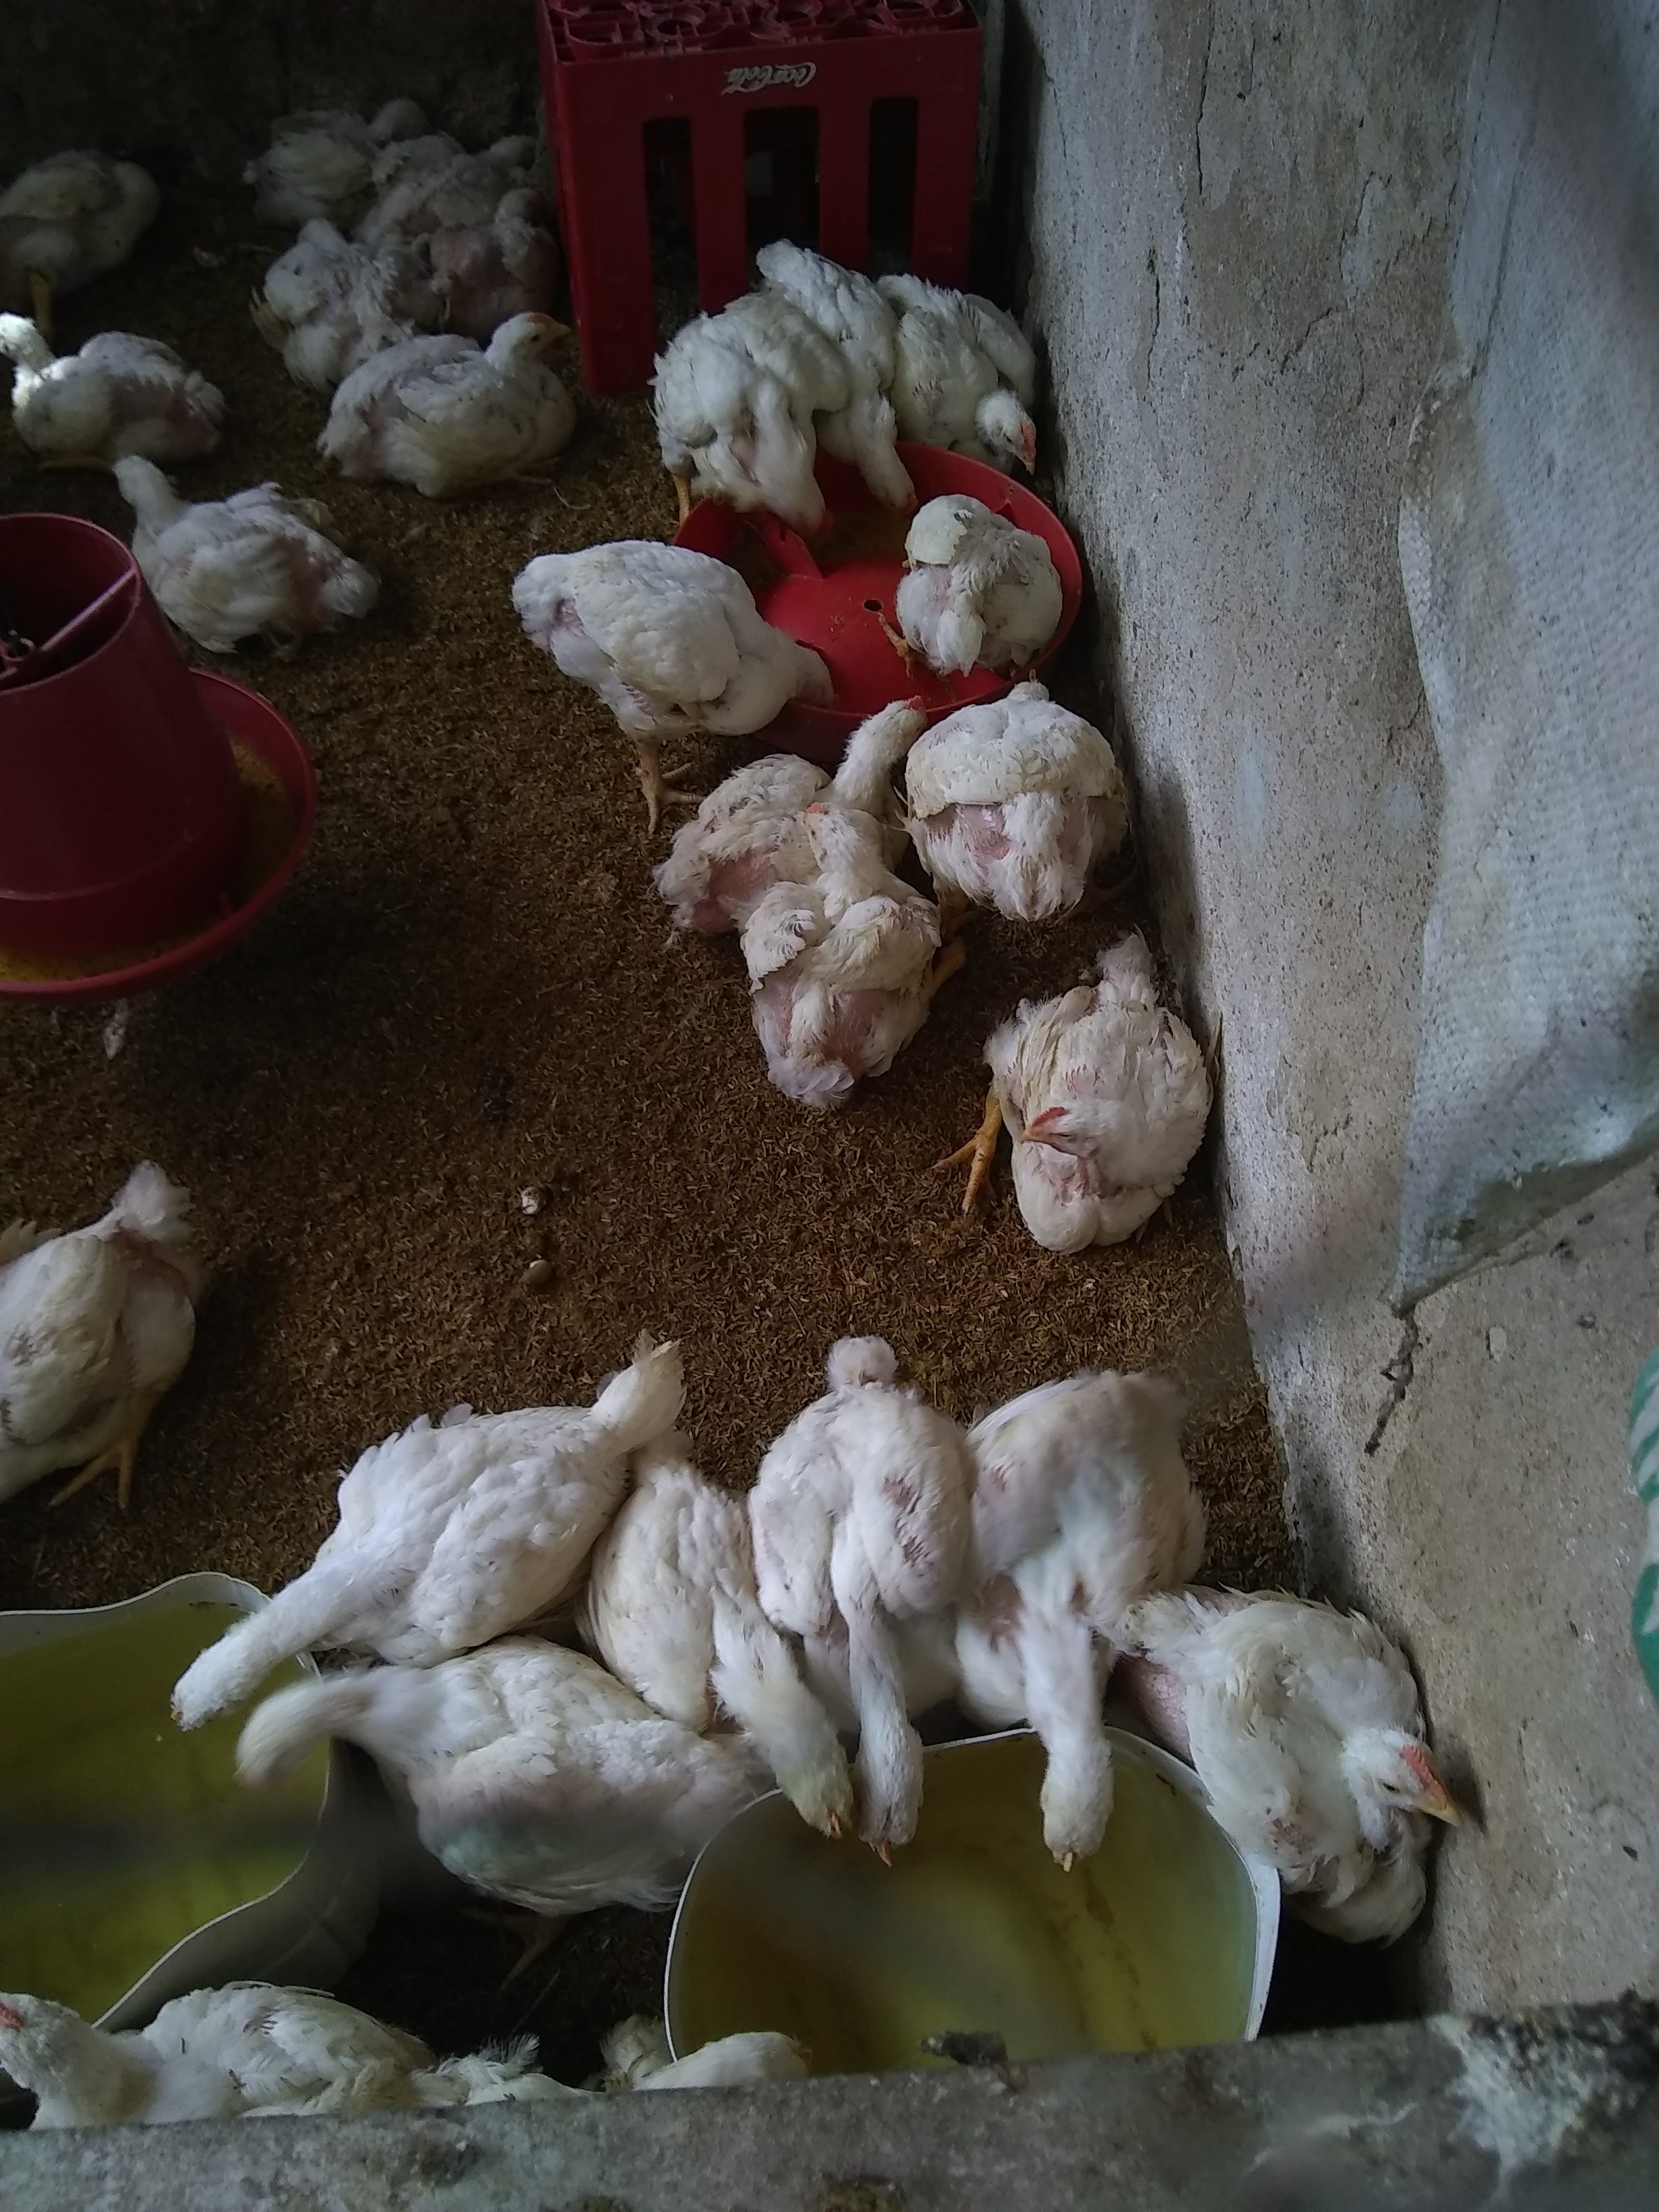Pollos: (162, 1329, 683, 1740), (749, 1332, 972, 1865), (969, 1360, 1187, 1862), (239, 1667, 662, 1907), (613, 1456, 856, 1848), (1206, 1599, 1464, 1844), (983, 981, 1220, 1244), (737, 803, 927, 1111), (505, 542, 831, 714), (108, 451, 378, 650), (328, 303, 586, 500), (918, 667, 1124, 892), (669, 300, 840, 545), (0, 303, 211, 453), (894, 282, 1053, 474), (899, 491, 1065, 658), (2, 141, 174, 301), (247, 89, 429, 209), (777, 695, 943, 799), (422, 185, 554, 308)
